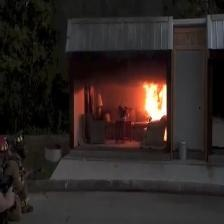fire: (138, 71, 172, 121)
